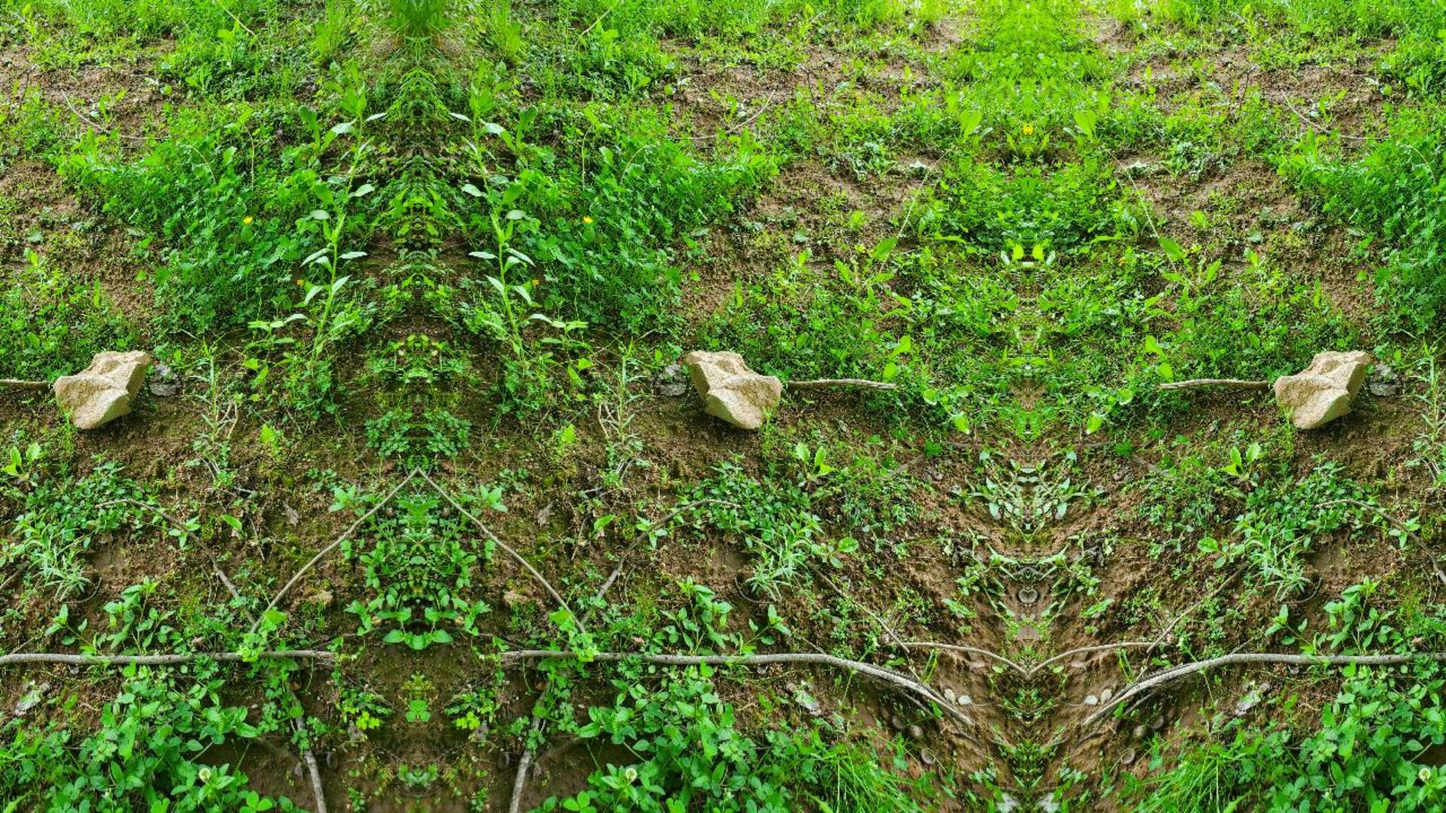rock: (53, 351, 154, 429), (1274, 351, 1374, 428), (683, 351, 782, 428)
